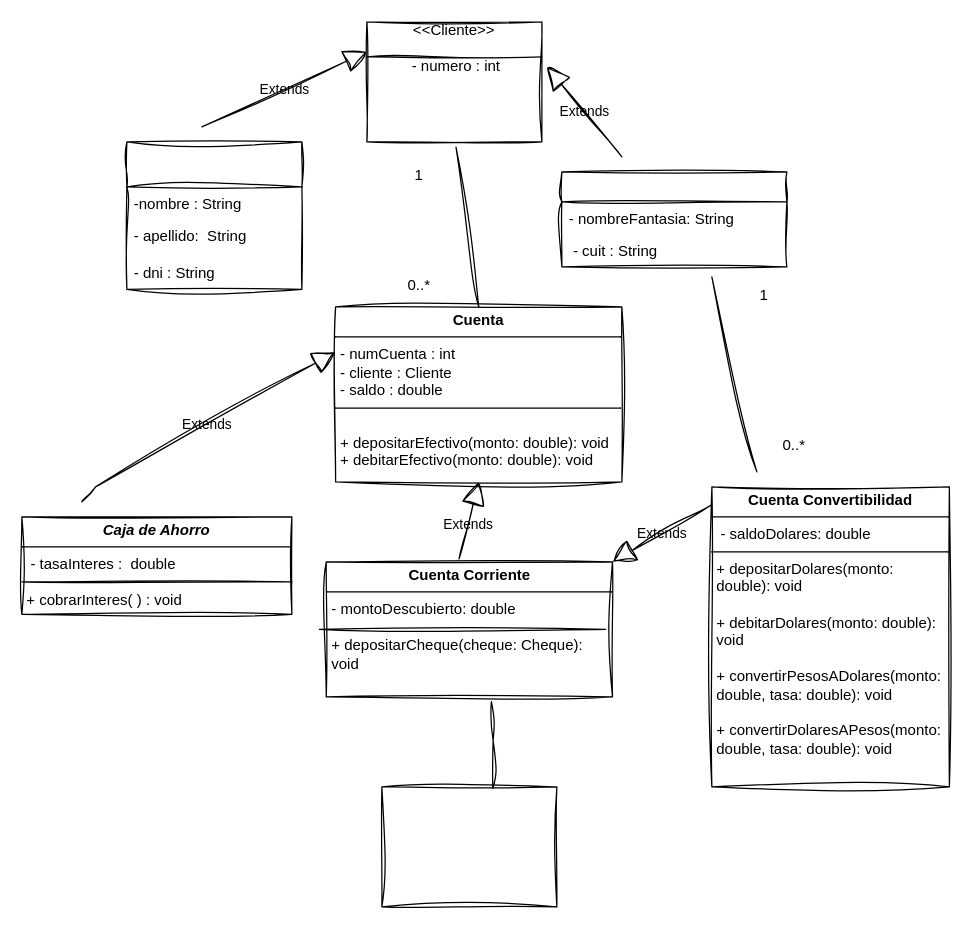
The diagram is 971 pixels wide and 929 high, and some of its shapes have lost their labels. Here are the shapes that lost their labels. From the top down, the box of each, then its label:
(126, 141, 302, 289): Cliente Individual
(561, 171, 787, 267): Cliente Empresa
(381, 786, 557, 907): Cheque - monto: double - bancoEmisor: String - fechaPago: LocalDate
